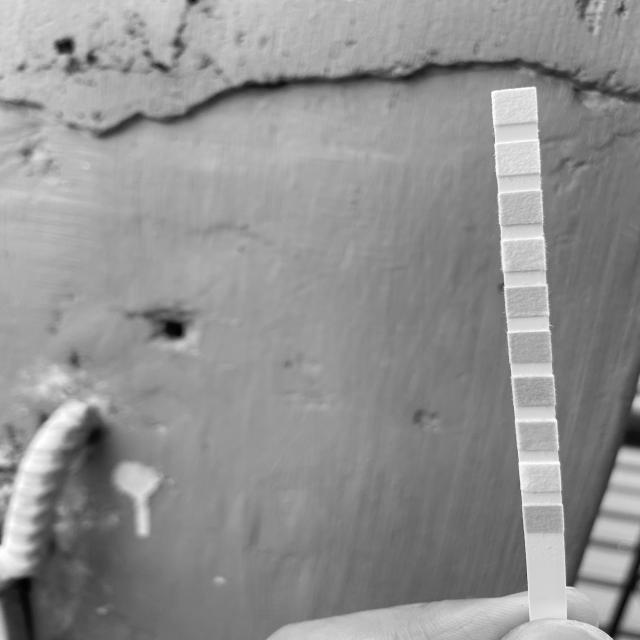Bilirubin: (525, 464, 559, 491)
Blood: (510, 332, 552, 362)
Glucose: (526, 506, 562, 531)
Ketone: (521, 422, 557, 449)
Leukocytes: (493, 92, 537, 122)
Nitrite: (496, 145, 539, 171)
Protein: (503, 240, 543, 268)
SpGravity: (515, 378, 554, 404)
Urobilinogen: (500, 194, 542, 222)
background: (0, 0, 640, 640)
pH: (506, 288, 546, 315)
strip: (491, 86, 567, 619)
